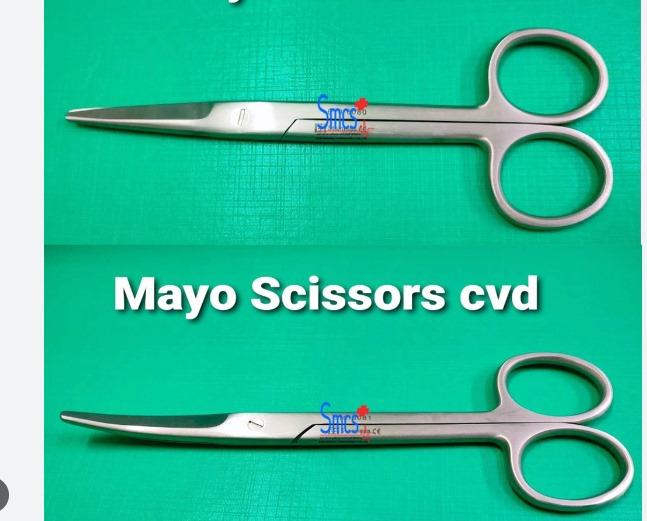Curved Mayo: (56, 347, 637, 512)
Straight Mayo: (58, 19, 616, 235)
